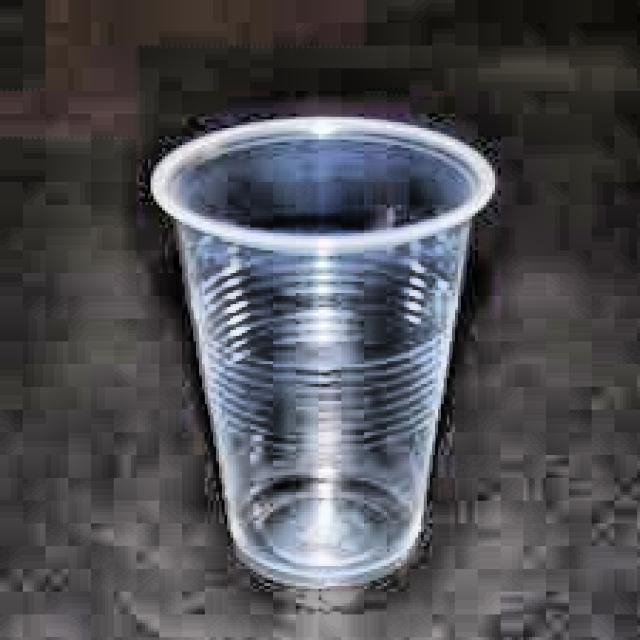plastic cup: (151, 116, 495, 587)
